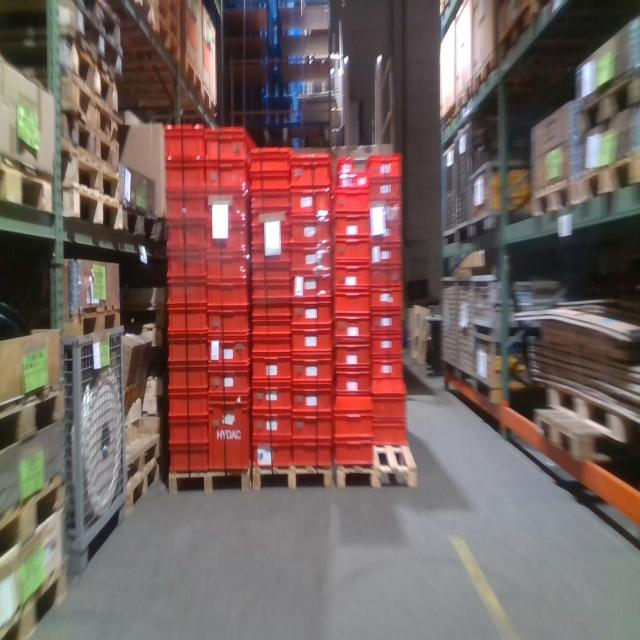pallet: (539, 372, 637, 442), (2, 468, 67, 563), (0, 378, 66, 468), (2, 554, 67, 638), (572, 143, 639, 220), (336, 432, 419, 494), (539, 407, 616, 468), (573, 67, 640, 134), (0, 148, 58, 224), (169, 455, 252, 503), (60, 8, 122, 65), (60, 82, 119, 139), (112, 421, 162, 488), (252, 456, 333, 497), (497, 2, 553, 60), (60, 148, 122, 200), (63, 45, 119, 102), (62, 185, 124, 229), (65, 122, 123, 166), (120, 459, 159, 517), (120, 202, 161, 253), (531, 175, 574, 222), (471, 54, 502, 102), (83, 1, 120, 39), (154, 23, 184, 66), (182, 56, 202, 104), (200, 81, 221, 125), (158, 5, 182, 43), (456, 79, 473, 126)
small_load_carrier: (207, 403, 251, 470), (163, 125, 208, 167), (204, 130, 249, 170), (337, 392, 374, 436), (293, 352, 338, 387), (372, 379, 408, 419), (209, 364, 254, 395), (207, 194, 248, 227), (293, 323, 338, 353), (206, 335, 254, 363), (292, 157, 331, 191), (252, 441, 297, 470), (167, 279, 209, 310), (166, 310, 209, 339), (204, 281, 250, 308), (334, 436, 374, 467), (167, 167, 208, 197), (293, 414, 332, 445), (292, 219, 331, 250), (166, 225, 209, 253), (166, 339, 209, 367), (252, 356, 292, 386), (167, 444, 208, 473), (206, 308, 250, 335), (209, 227, 248, 257), (167, 197, 209, 224), (294, 275, 337, 301), (166, 367, 210, 392), (292, 191, 331, 219), (209, 253, 248, 281), (168, 416, 207, 444), (374, 419, 408, 451), (333, 187, 373, 214), (290, 441, 331, 467), (293, 387, 332, 414), (252, 413, 291, 440), (167, 254, 209, 279), (334, 288, 370, 317), (293, 301, 337, 324), (207, 170, 249, 194), (168, 392, 210, 416), (251, 388, 291, 413), (334, 261, 371, 288), (294, 250, 331, 275), (250, 194, 292, 216), (331, 238, 371, 261), (336, 315, 371, 341), (337, 366, 372, 392), (330, 216, 373, 237), (365, 153, 402, 177), (372, 264, 404, 291), (336, 341, 372, 365), (368, 178, 402, 203), (250, 248, 292, 267), (251, 284, 293, 303), (251, 303, 291, 322), (371, 309, 404, 332), (372, 333, 402, 358), (251, 230, 292, 248), (246, 147, 293, 162), (246, 164, 290, 180), (250, 267, 291, 284), (251, 322, 292, 339), (368, 203, 402, 223), (252, 339, 292, 356), (372, 244, 404, 265), (371, 223, 402, 244), (372, 358, 402, 378), (372, 291, 404, 309), (250, 180, 291, 194), (251, 216, 292, 229)
stillage: (63, 317, 133, 580), (455, 110, 520, 242), (471, 268, 574, 334), (468, 157, 548, 239), (469, 333, 530, 409), (450, 275, 471, 393), (437, 279, 456, 388), (439, 137, 457, 241)
